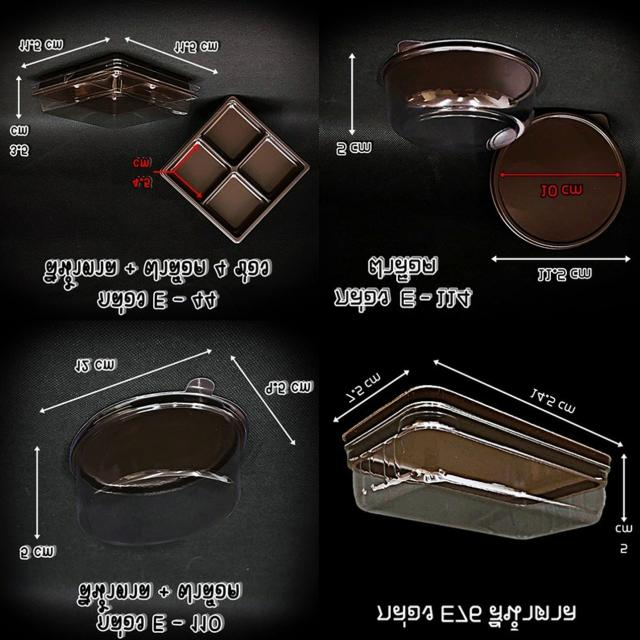plastik: (343, 385, 611, 539), (70, 378, 247, 544), (161, 97, 309, 243), (491, 113, 626, 248), (379, 40, 540, 152), (32, 54, 199, 128)
